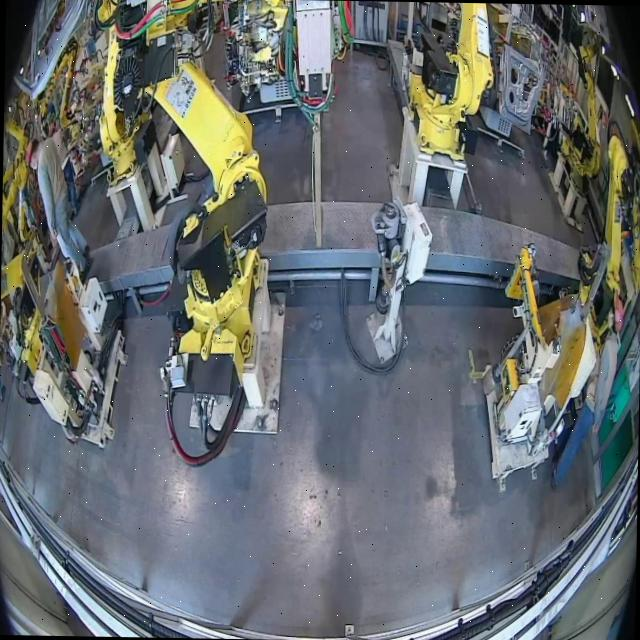Person: (23, 135, 95, 278), (48, 124, 82, 218)
